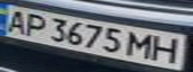3: (45, 16, 69, 44)
5: (103, 25, 127, 55)
6: (63, 19, 87, 47)
7: (81, 21, 106, 51)
A: (0, 7, 30, 34)
H: (151, 34, 184, 65)
M: (127, 29, 157, 60)
P: (18, 11, 51, 38)
